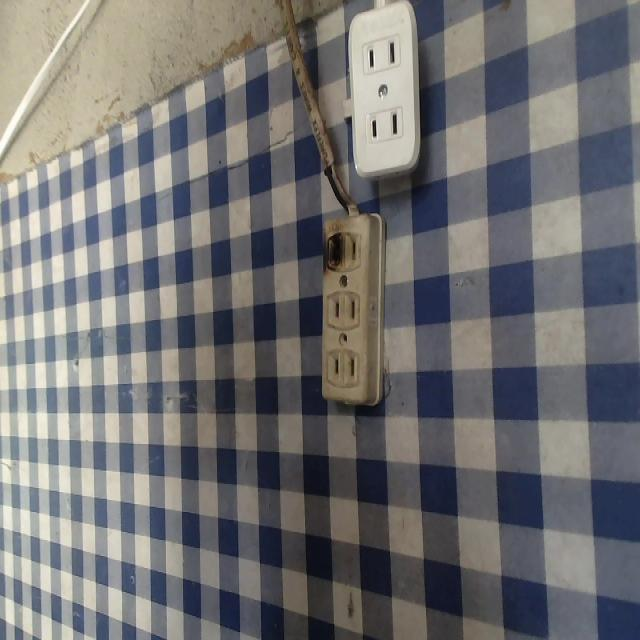-: (318, 224, 347, 276)
